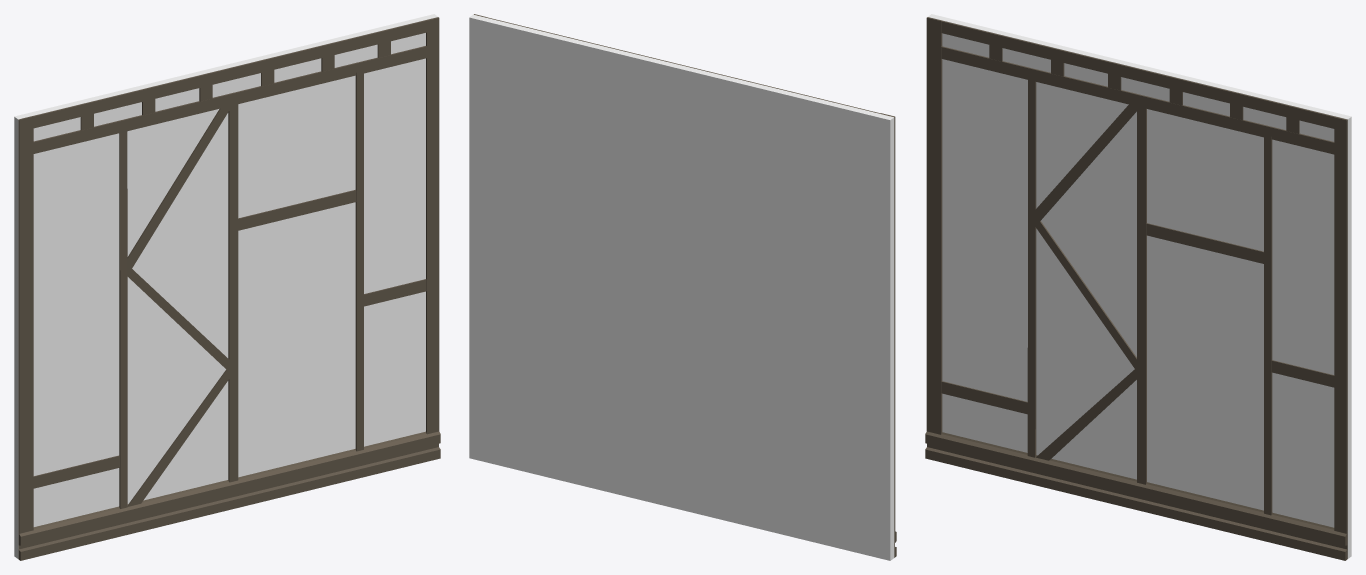
Rendered from WALL_05_1.fbx.
3 renders of one model, left to right at view 1: azimuth 30°, elevation 25°; view 2: azimuth 150°, elevation 25°; view 3: azimuth 330°, elevation 25°, orthographic.
Visible parts, largest first — view 1: WALL_05_1; view 2: WALL_05_1; view 3: WALL_05_1.
Part boxes in pixels (left/top/right/bottom): WALL_05_1: left=14, top=14, right=440, bottom=560; WALL_05_1: left=469, top=14, right=896, bottom=560; WALL_05_1: left=925, top=14, right=1351, bottom=560.
Bounding box in the file's own units: 300 × 300 × 8.
